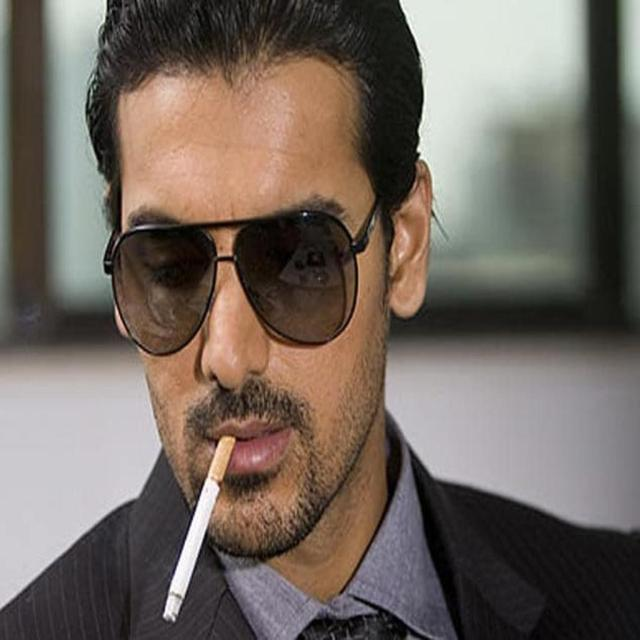smoking: (86, 1, 458, 635)
